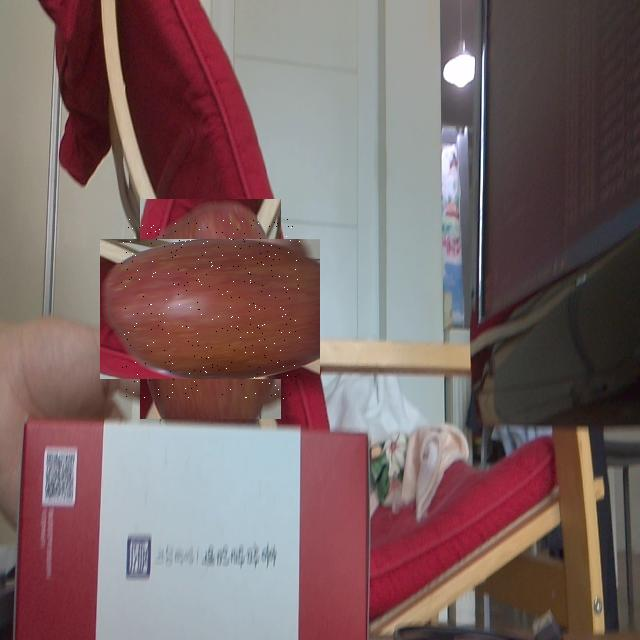apple: (120, 219, 301, 399)
